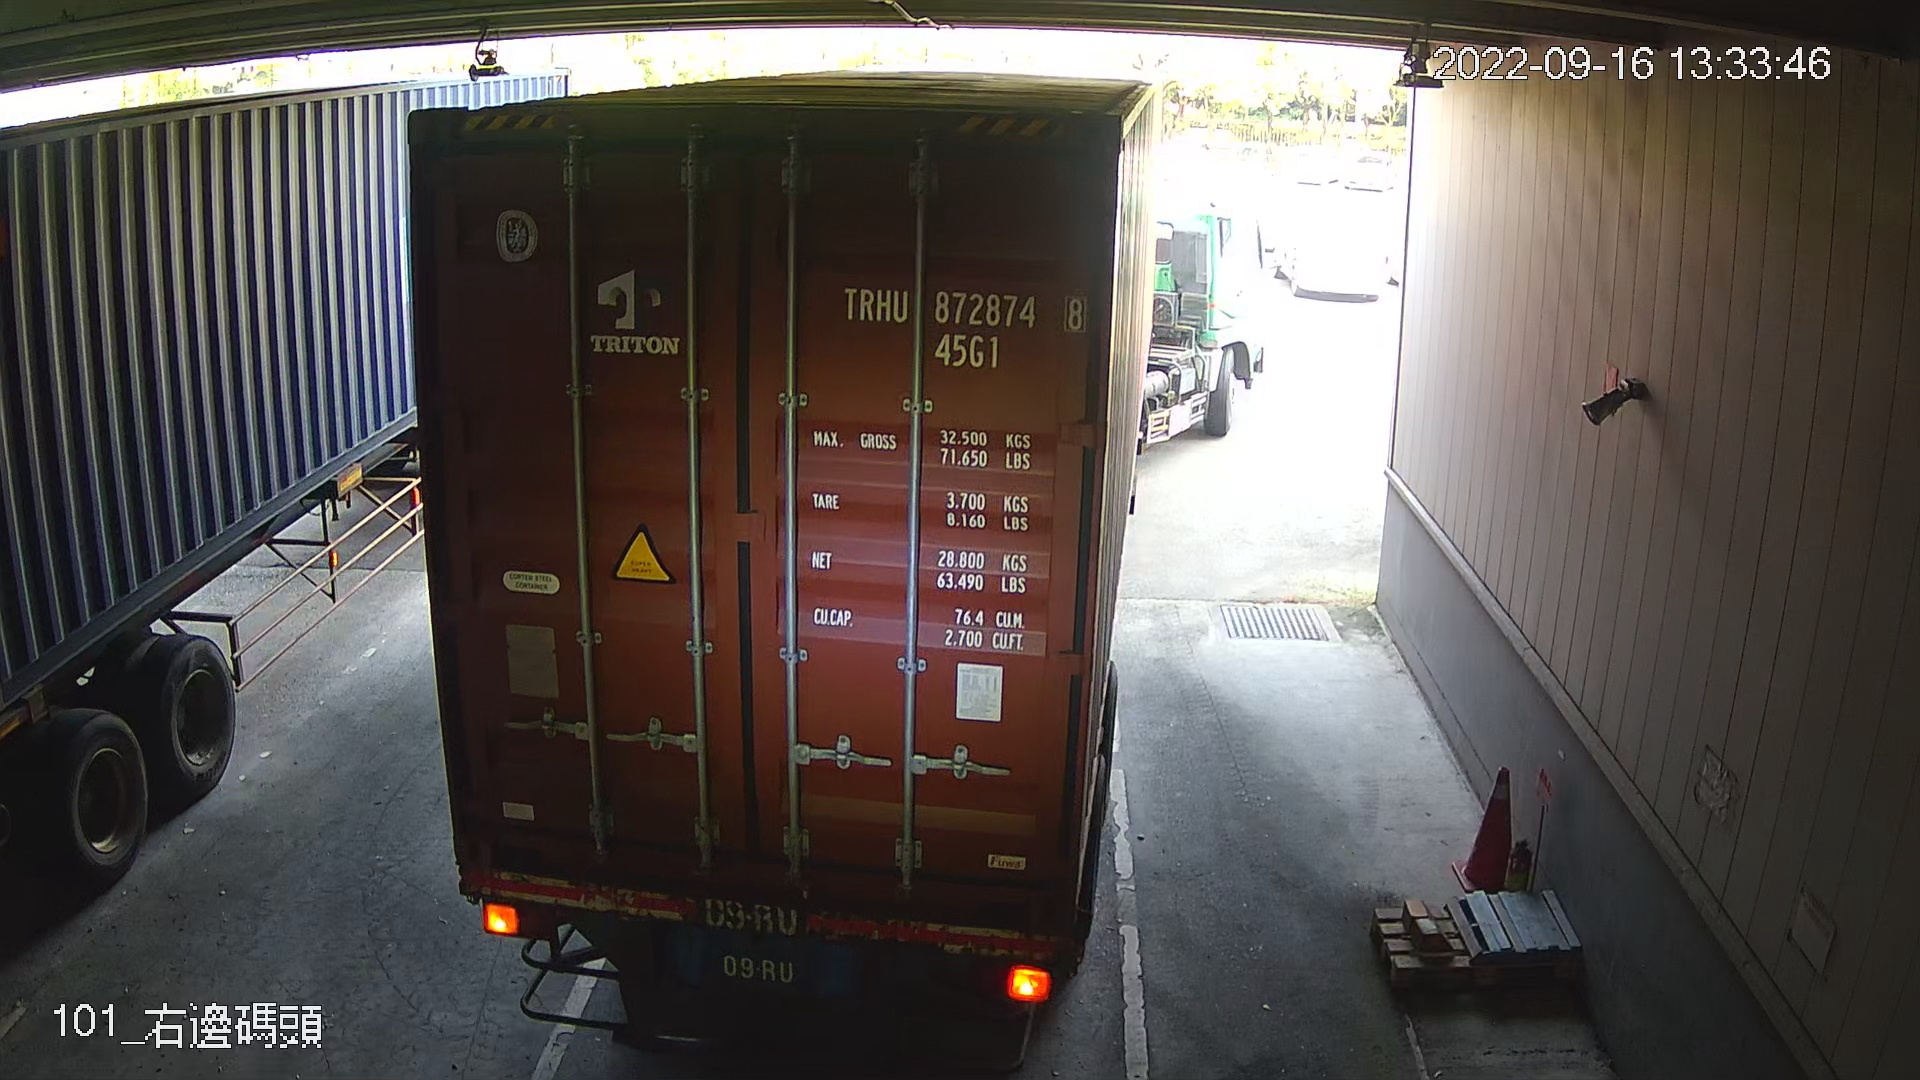container: (825, 268, 1092, 382)
